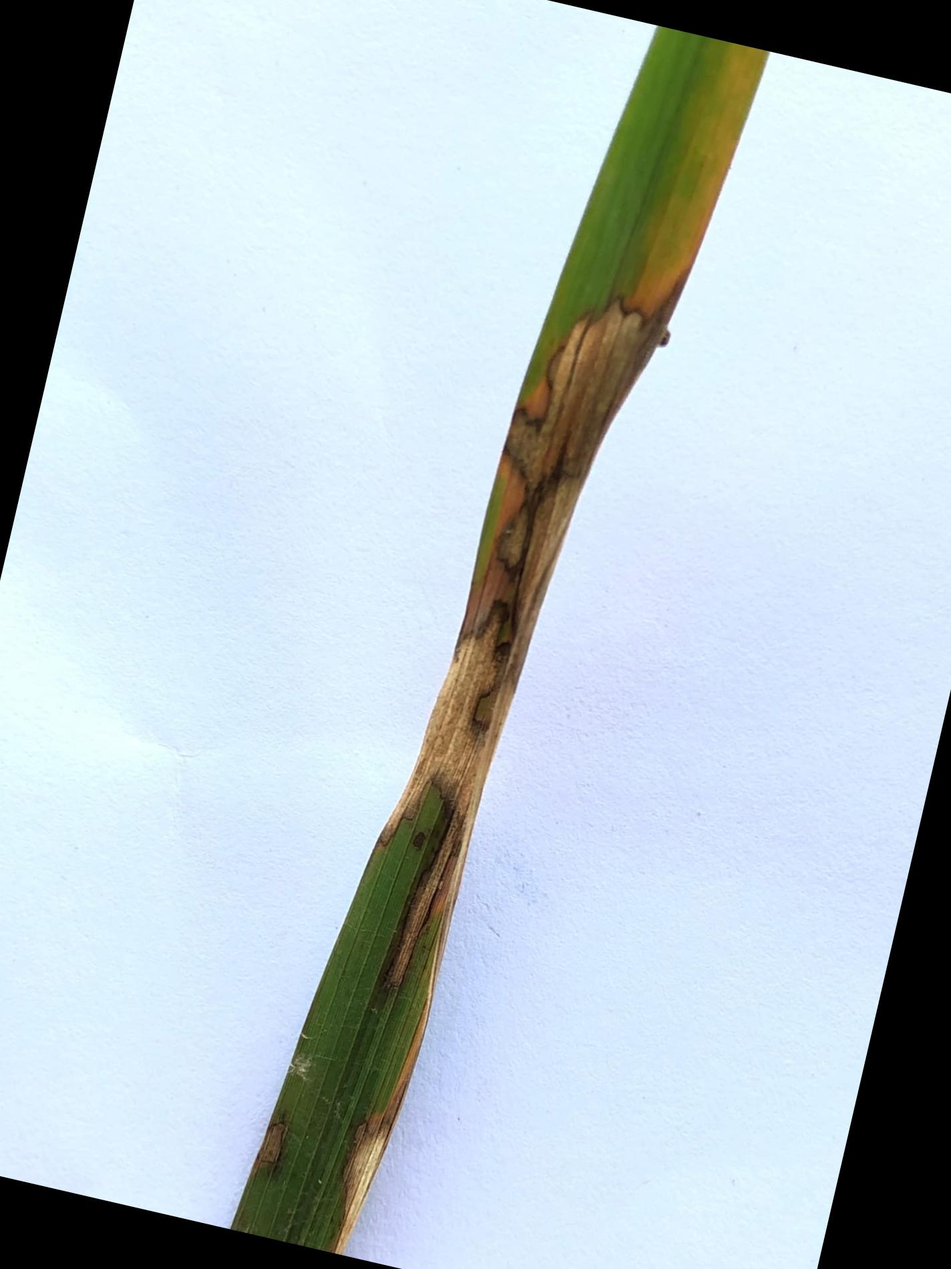Leaf Blight: (332, 268, 684, 1256)
